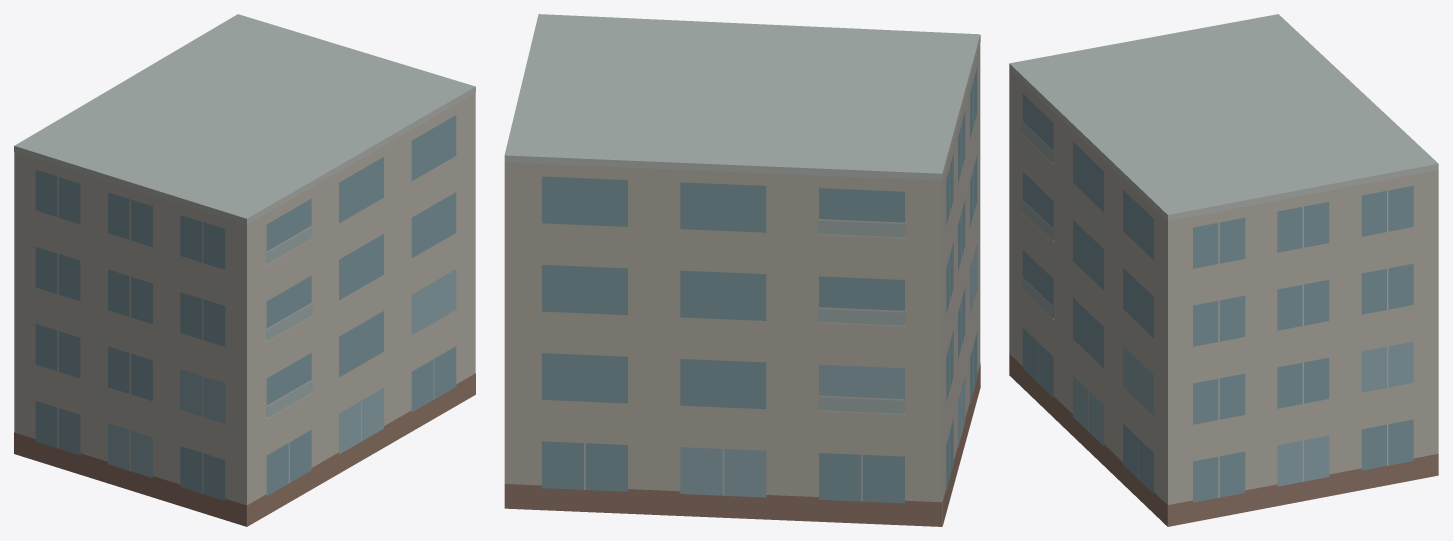
Rendered from survey-upis-32747002.glb.
3 renders of one model, left to right at view 1: azimuth 30°, elevation 25°; view 2: azimuth 150°, elevation 25°; view 3: azimuth 270°, elevation 25°, orthographic. The views are drawn at different scales.
Parts seen in each view (by area): view 1: survey-upis-32747002.tmp; view 2: survey-upis-32747002.tmp; view 3: survey-upis-32747002.tmp.
Boxes of the visible parts, <box> form: survey-upis-32747002.tmp: <box>14,14,475,526</box>; survey-upis-32747002.tmp: <box>504,14,980,526</box>; survey-upis-32747002.tmp: <box>1009,14,1438,526</box>.
Size of the model in its own units: 16.88 by 12.2 by 15.23.
